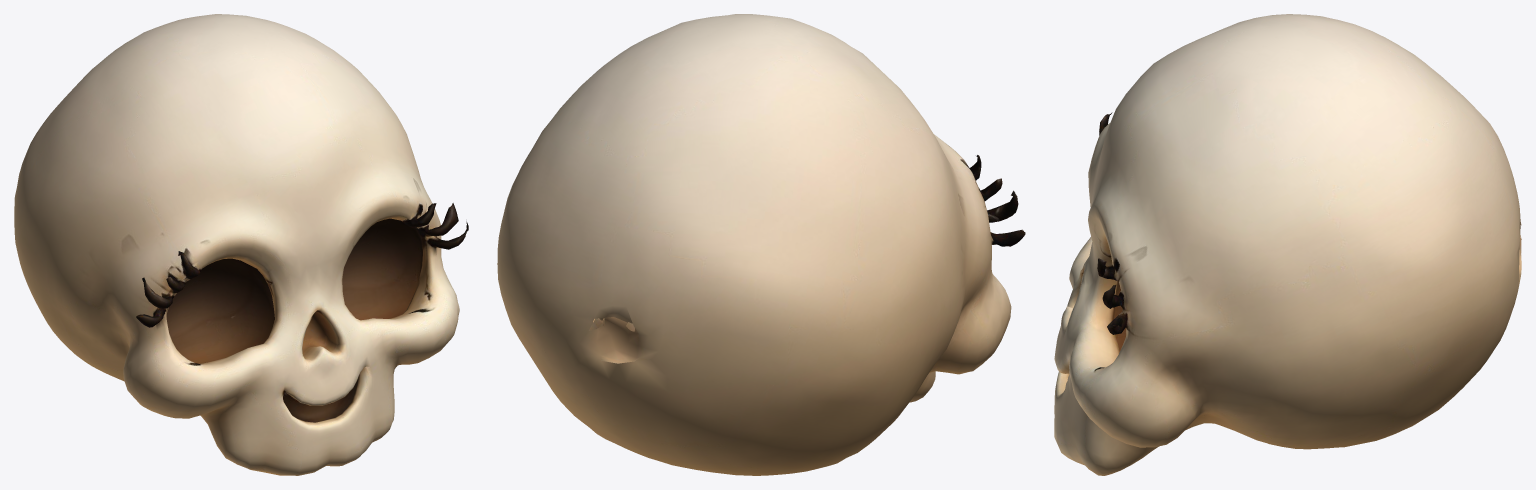
The model's file is kalok.glb.
The picture shows the model from 3 angles, left to right: view 1: azimuth 30°, elevation 25°; view 2: azimuth 150°, elevation 25°; view 3: azimuth 270°, elevation 25°; orthographic projection. The views are drawn at different scales.
Parts seen in each view (by area): view 1: tripo_node_35942de4-007b-4df9-a0a6-2471fc15ad91; view 2: tripo_node_35942de4-007b-4df9-a0a6-2471fc15ad91; view 3: tripo_node_35942de4-007b-4df9-a0a6-2471fc15ad91.
Boxes of the visible parts, left/top/right/bottom form: tripo_node_35942de4-007b-4df9-a0a6-2471fc15ad91: left=14, top=14, right=468, bottom=475; tripo_node_35942de4-007b-4df9-a0a6-2471fc15ad91: left=497, top=14, right=1025, bottom=475; tripo_node_35942de4-007b-4df9-a0a6-2471fc15ad91: left=1054, top=14, right=1521, bottom=475.
Bounding box in the file's own units: 0.9624 × 0.9748 × 0.9986.
1 material, 1 textured.
